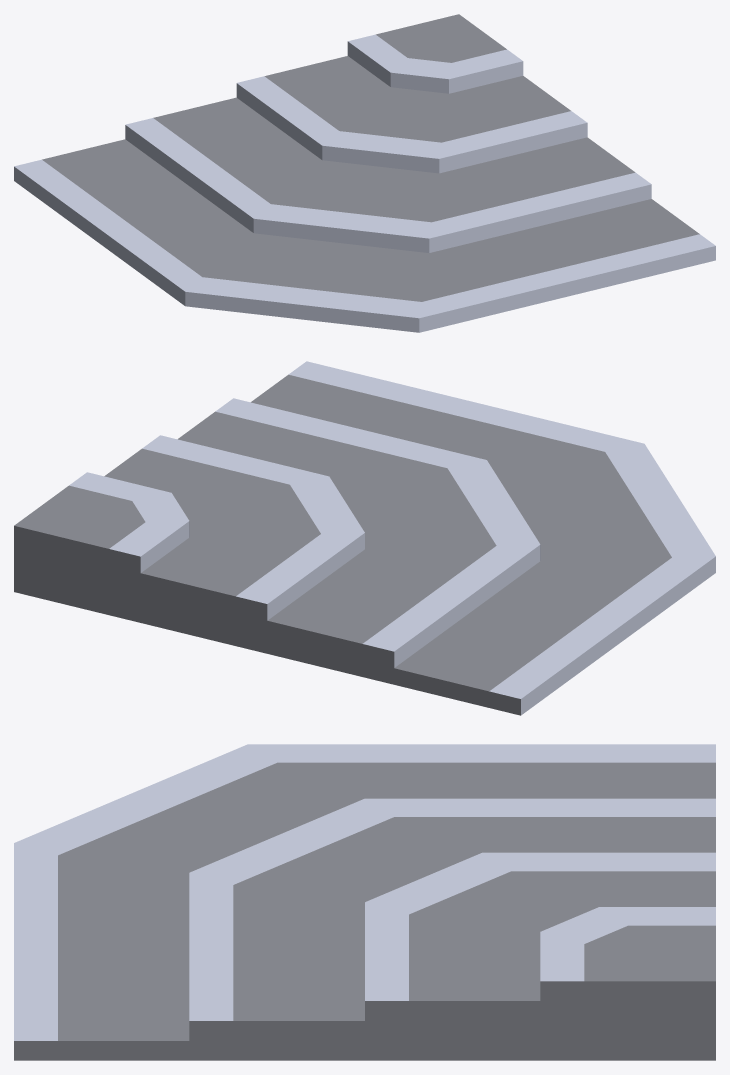
3 views of the same model, one above another, from view 1: azimuth 30°, elevation 25°; view 2: azimuth 150°, elevation 25°; view 3: azimuth 270°, elevation 25° (orthographic). The views are drawn at different scales.
Parts seen in each view (by area): view 1: object_017; view 2: object_017; view 3: object_017.
Part boxes in pixels (bbox=[...]): object_017: bbox=[14, 14, 715, 332]; object_017: bbox=[14, 361, 715, 715]; object_017: bbox=[14, 744, 715, 1060].
Bounding box in the file's own units: 10 × 1.25 × 10.
